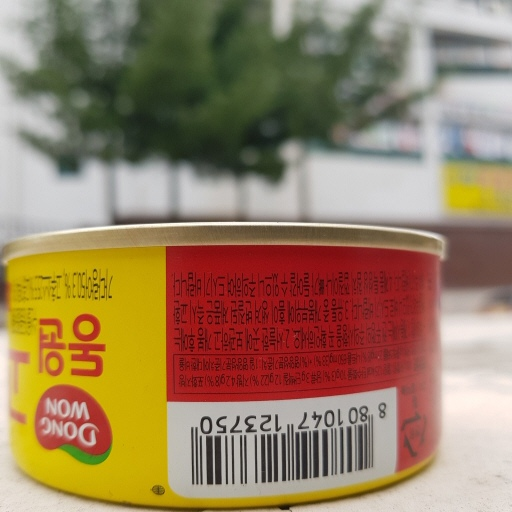Metal_1: (1, 221, 453, 512)
